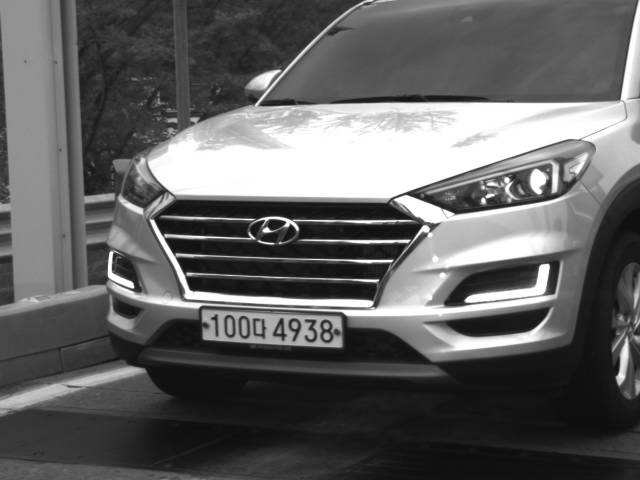car: (101, 1, 639, 432)
plate: (198, 304, 348, 351)
